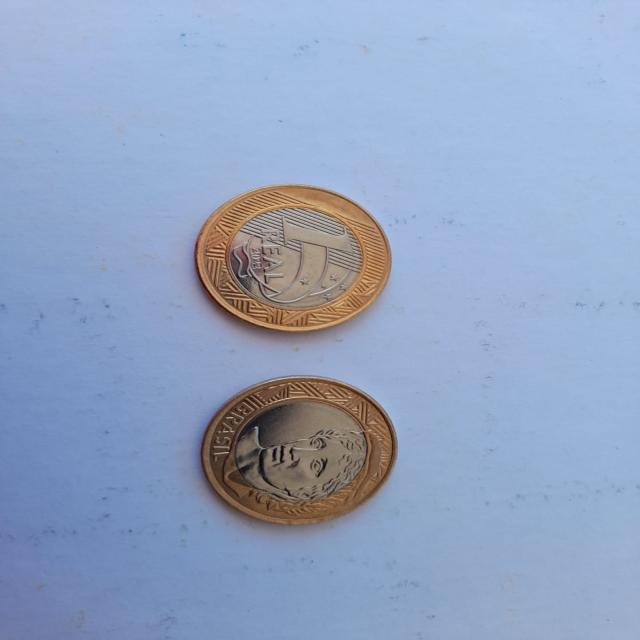1 real: (184, 174, 400, 336), (182, 376, 406, 528)
